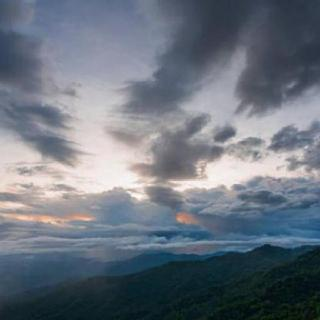Nimbostratus: (2, 0, 320, 252)
